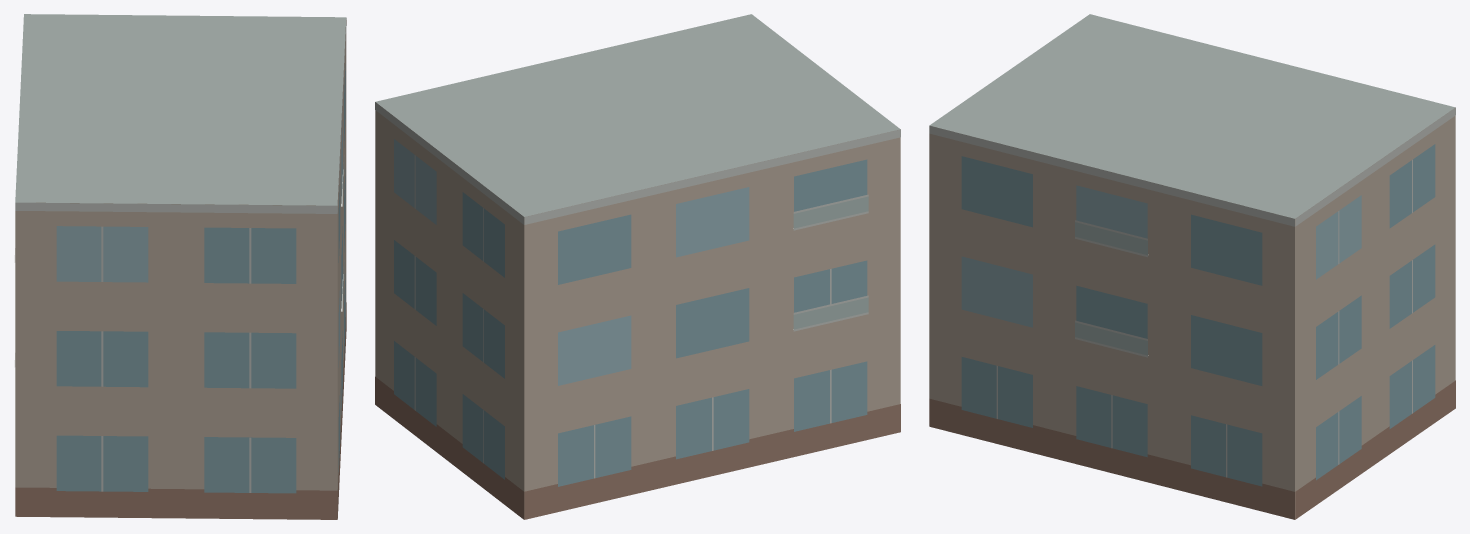
Rendered from survey-upis-32714883.glb.
3 renders of one model, left to right at view 1: azimuth 30°, elevation 25°; view 2: azimuth 150°, elevation 25°; view 3: azimuth 270°, elevation 25°, orthographic. The views are drawn at different scales.
Visible parts, largest first — view 1: survey-upis-32714883.tmp; view 2: survey-upis-32714883.tmp; view 3: survey-upis-32714883.tmp.
Part boxes in pixels (x1,y1,x2,y2): survey-upis-32714883.tmp: (14, 14, 346, 519); survey-upis-32714883.tmp: (375, 14, 900, 519); survey-upis-32714883.tmp: (929, 14, 1455, 519).
Bounding box in the file's own units: 13.36 × 9.15 × 14.51.
